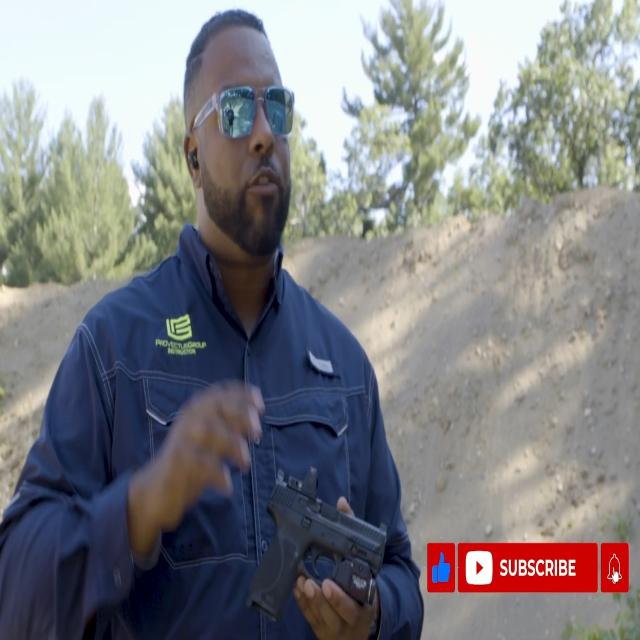Gun_Holder: (269, 443, 386, 626)
Person: (2, 0, 424, 640)
